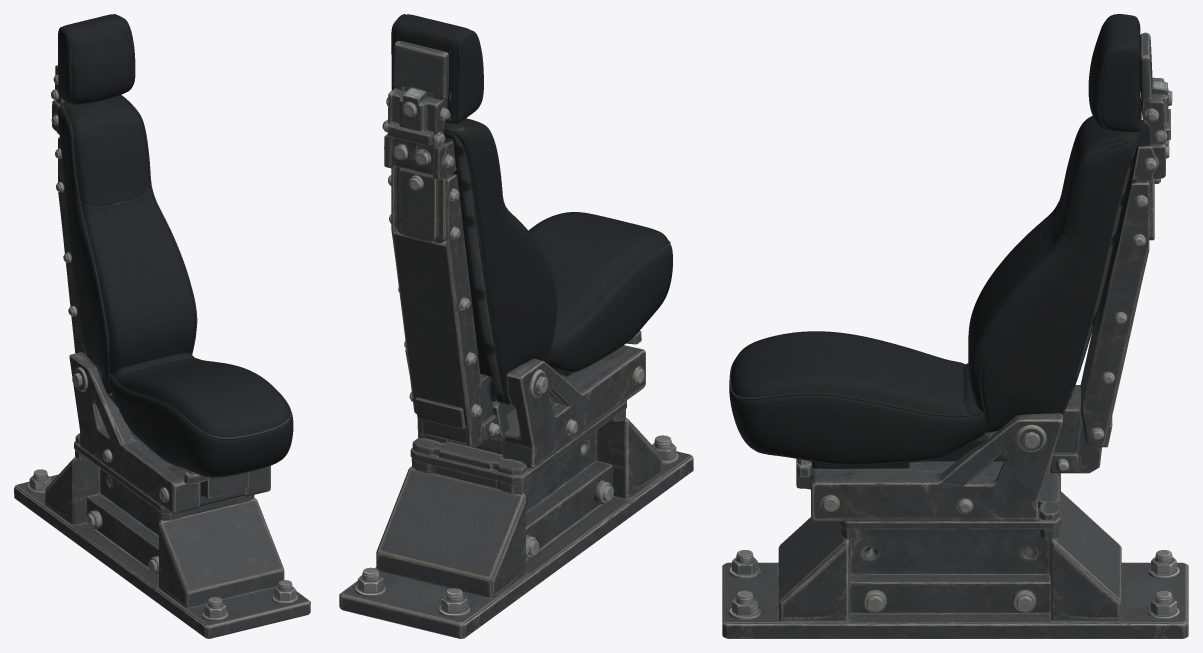
File: Meshy_AI_catapult_seat_3d_1013060518_image-to-3d-texture_optimized.glb
The picture shows the model from 3 angles, left to right: view 1: azimuth 30°, elevation 25°; view 2: azimuth 150°, elevation 25°; view 3: azimuth 270°, elevation 25°; orthographic projection. The views are drawn at different scales.
Size of the model in its own units: 0.4562 by 1.9 by 1.39.
1 material, 1 textured.
